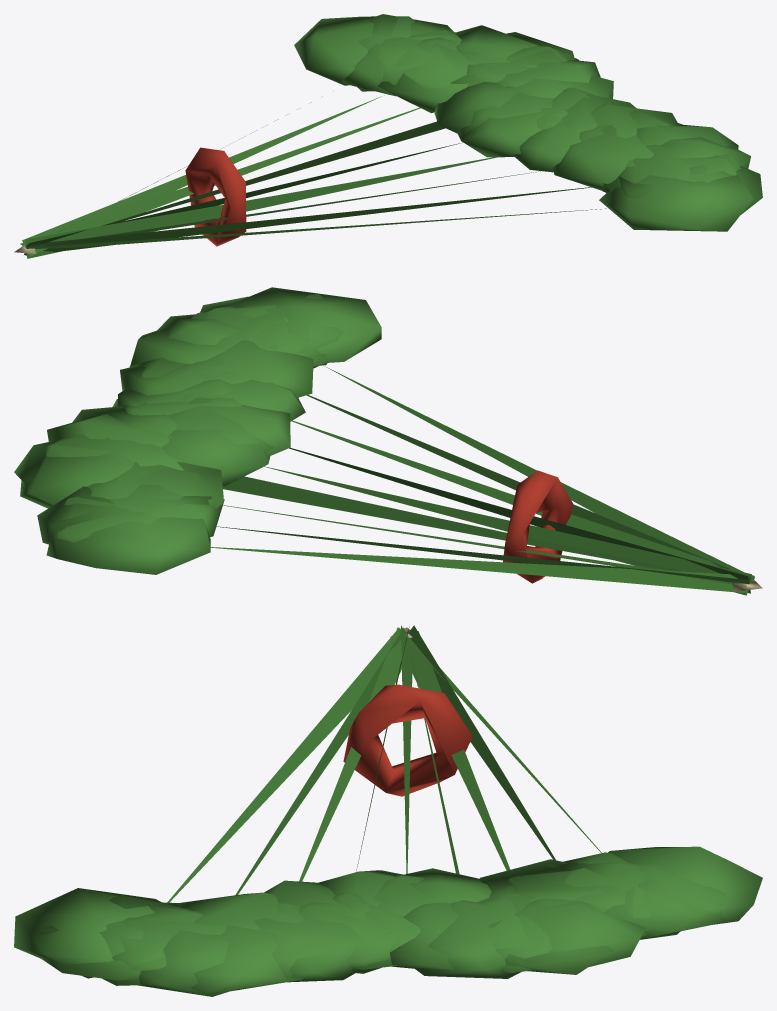
Rendered from ngo_bo.glb.
3 views of the same model, one above another, from view 1: azimuth 30°, elevation 25°; view 2: azimuth 150°, elevation 25°; view 3: azimuth 270°, elevation 25° (orthographic). The views are drawn at different scales.
Parts seen in each view (by area): view 1: ngo_bo; view 2: ngo_bo; view 3: ngo_bo.
Boxes of the visible parts, x1=… form: ngo_bo: x1=14, y1=14, x2=762, y2=258; ngo_bo: x1=14, y1=287, x2=762, y2=595; ngo_bo: x1=14, y1=625, x2=762, y2=996.
Bounding box in the file's own units: 0.234 × 0.0332 × 0.1952.
